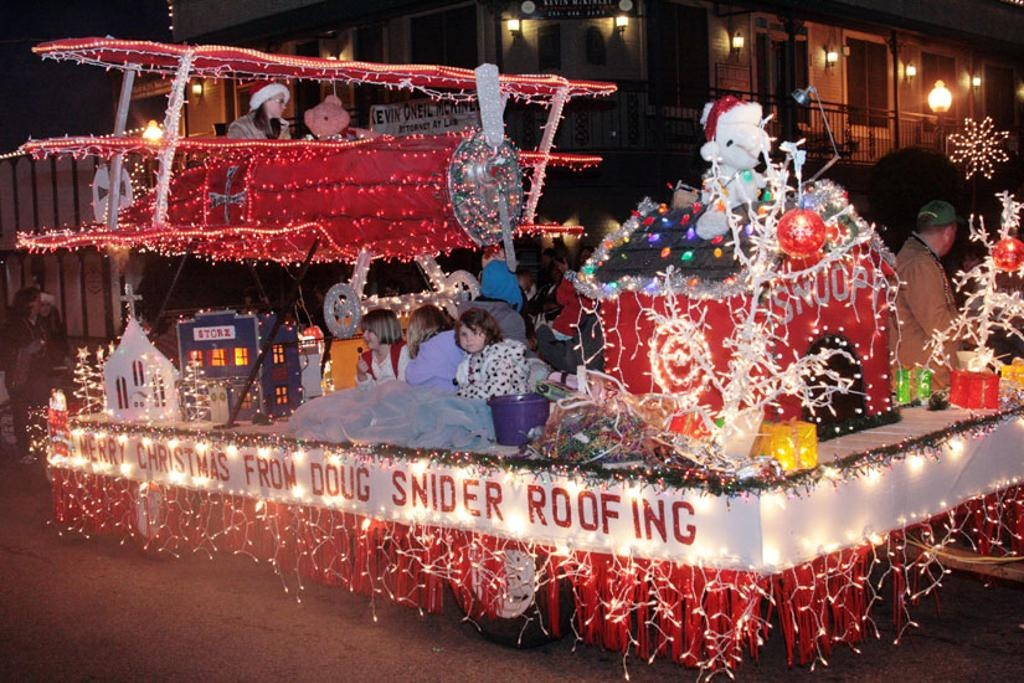human_face: (457, 321, 485, 353), (940, 220, 958, 258), (266, 91, 286, 120), (361, 324, 381, 350), (962, 253, 978, 273), (32, 293, 44, 315), (581, 249, 591, 268), (40, 300, 50, 316), (542, 254, 552, 268), (552, 267, 560, 281), (244, 294, 252, 306)
